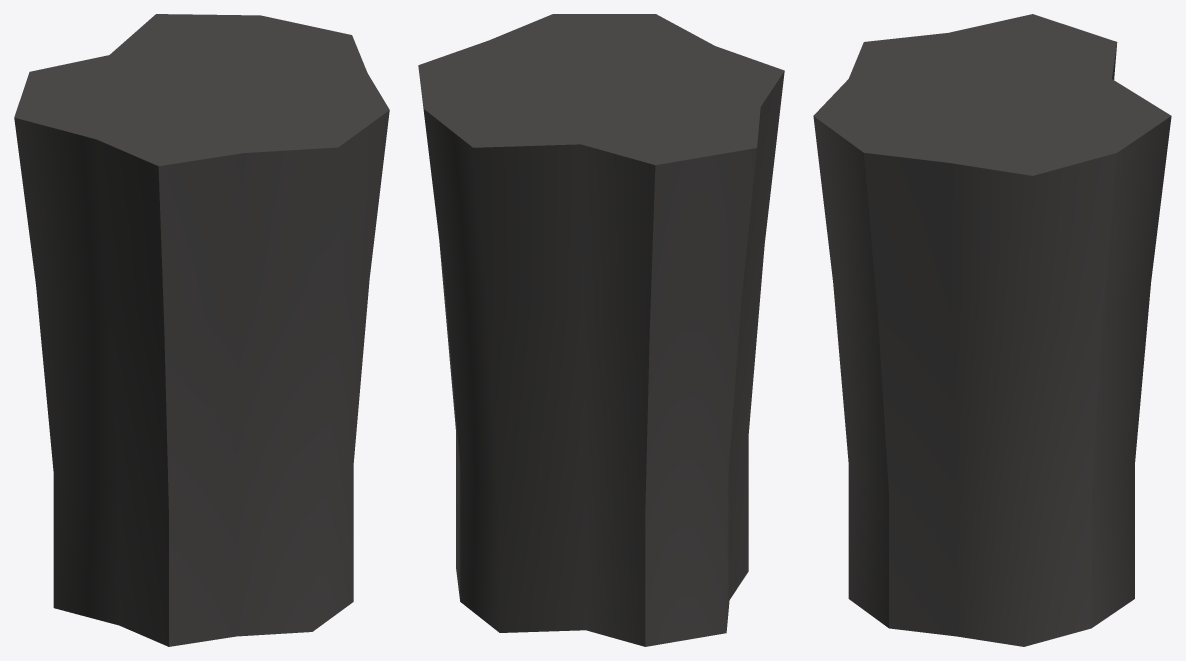
3 views of the same model, side by side, from view 1: azimuth 30°, elevation 25°; view 2: azimuth 150°, elevation 25°; view 3: azimuth 270°, elevation 25° (orthographic). The views are drawn at different scales.
Visible parts, largest first — view 1: Box001; view 2: Box001; view 3: Box001.
Part boxes in pixels (<box>): Box001: <box>14,14,389,646</box>; Box001: <box>418,14,784,646</box>; Box001: <box>813,14,1171,646</box>.
Size of the model in its own units: 42.05 by 58.94 by 39.3.
